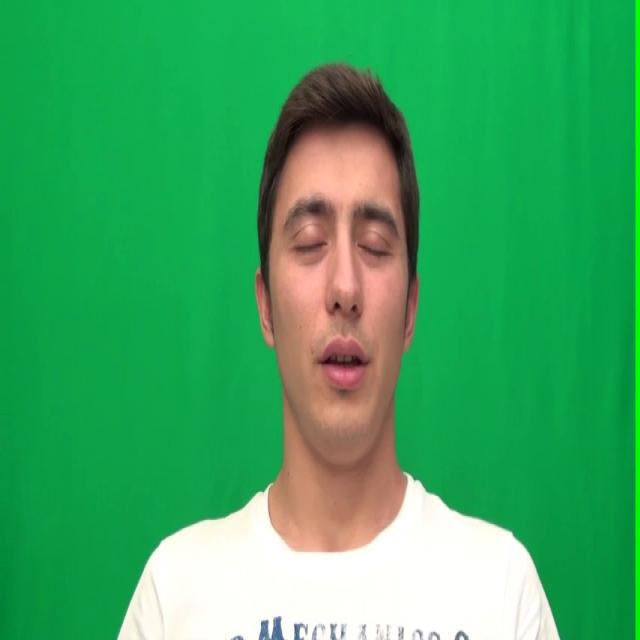Boredom: (265, 116, 401, 437)
